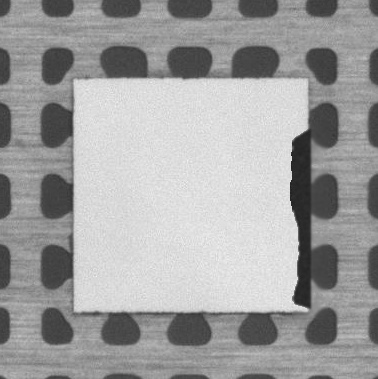DIE_BROKEN: (286, 131, 313, 314)
